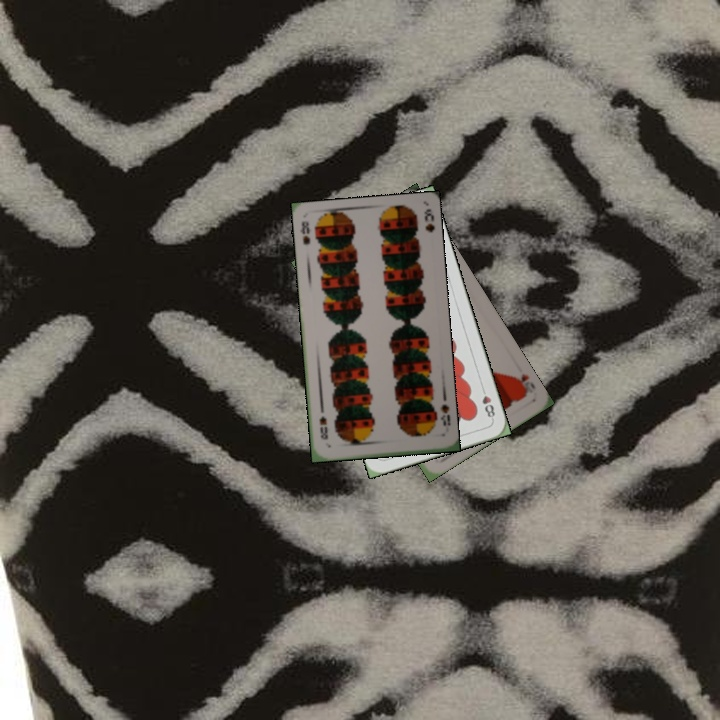H8: (477, 383, 497, 423)
HO: (510, 369, 538, 399)
S8: (296, 217, 313, 247), (436, 400, 453, 428)
